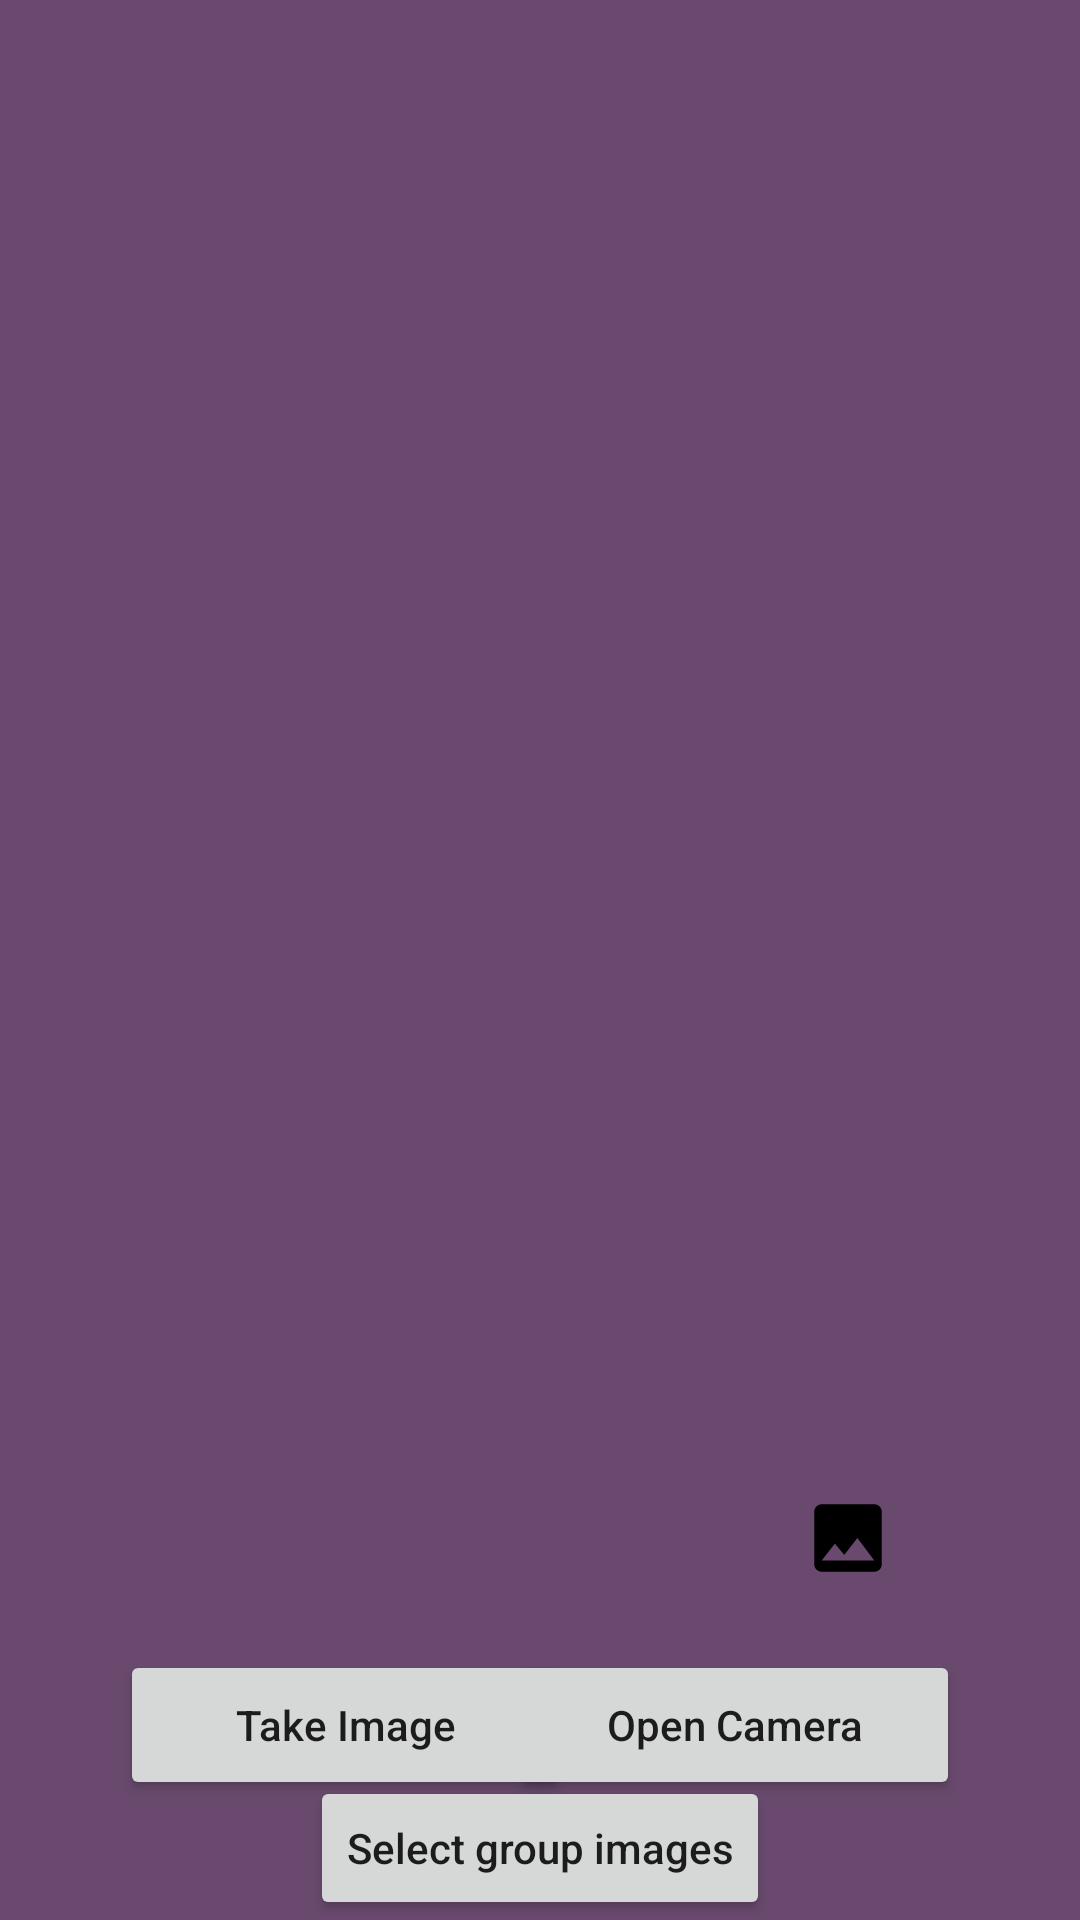

Screen size 1080px x 1920px. Icon name, then its center in pixels as (x=x, y=y):
images: (x=848, y=1538)
